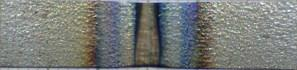soldas: (88, 1, 220, 68)
